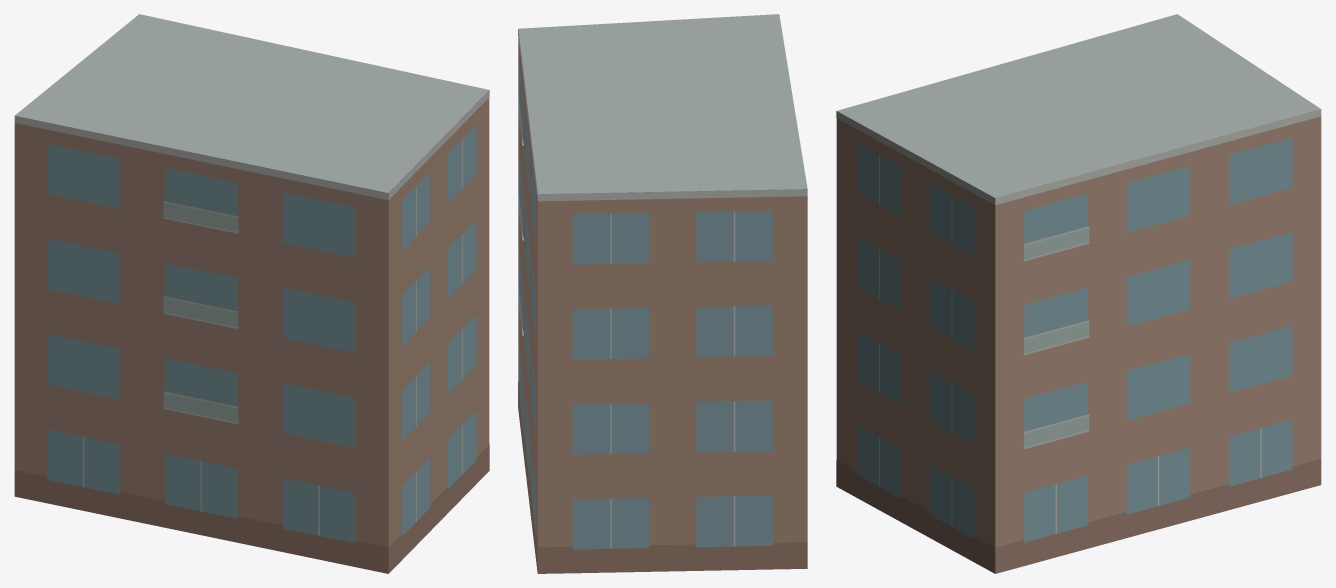
Rendered from survey-upis-32981937.glb.
The picture shows the model from 3 angles, left to right: view 1: azimuth 30°, elevation 25°; view 2: azimuth 150°, elevation 25°; view 3: azimuth 270°, elevation 25°; orthographic projection.
Parts seen in each view (by area): view 1: survey-upis-32981937.tmp; view 2: survey-upis-32981937.tmp; view 3: survey-upis-32981937.tmp.
Part boxes in pixels (x1,y1,x2,y2): survey-upis-32981937.tmp: (14, 14, 489, 573); survey-upis-32981937.tmp: (518, 14, 807, 573); survey-upis-32981937.tmp: (836, 14, 1321, 573).
Size of the model in its own units: 13.57 by 12.9 by 15.09.
